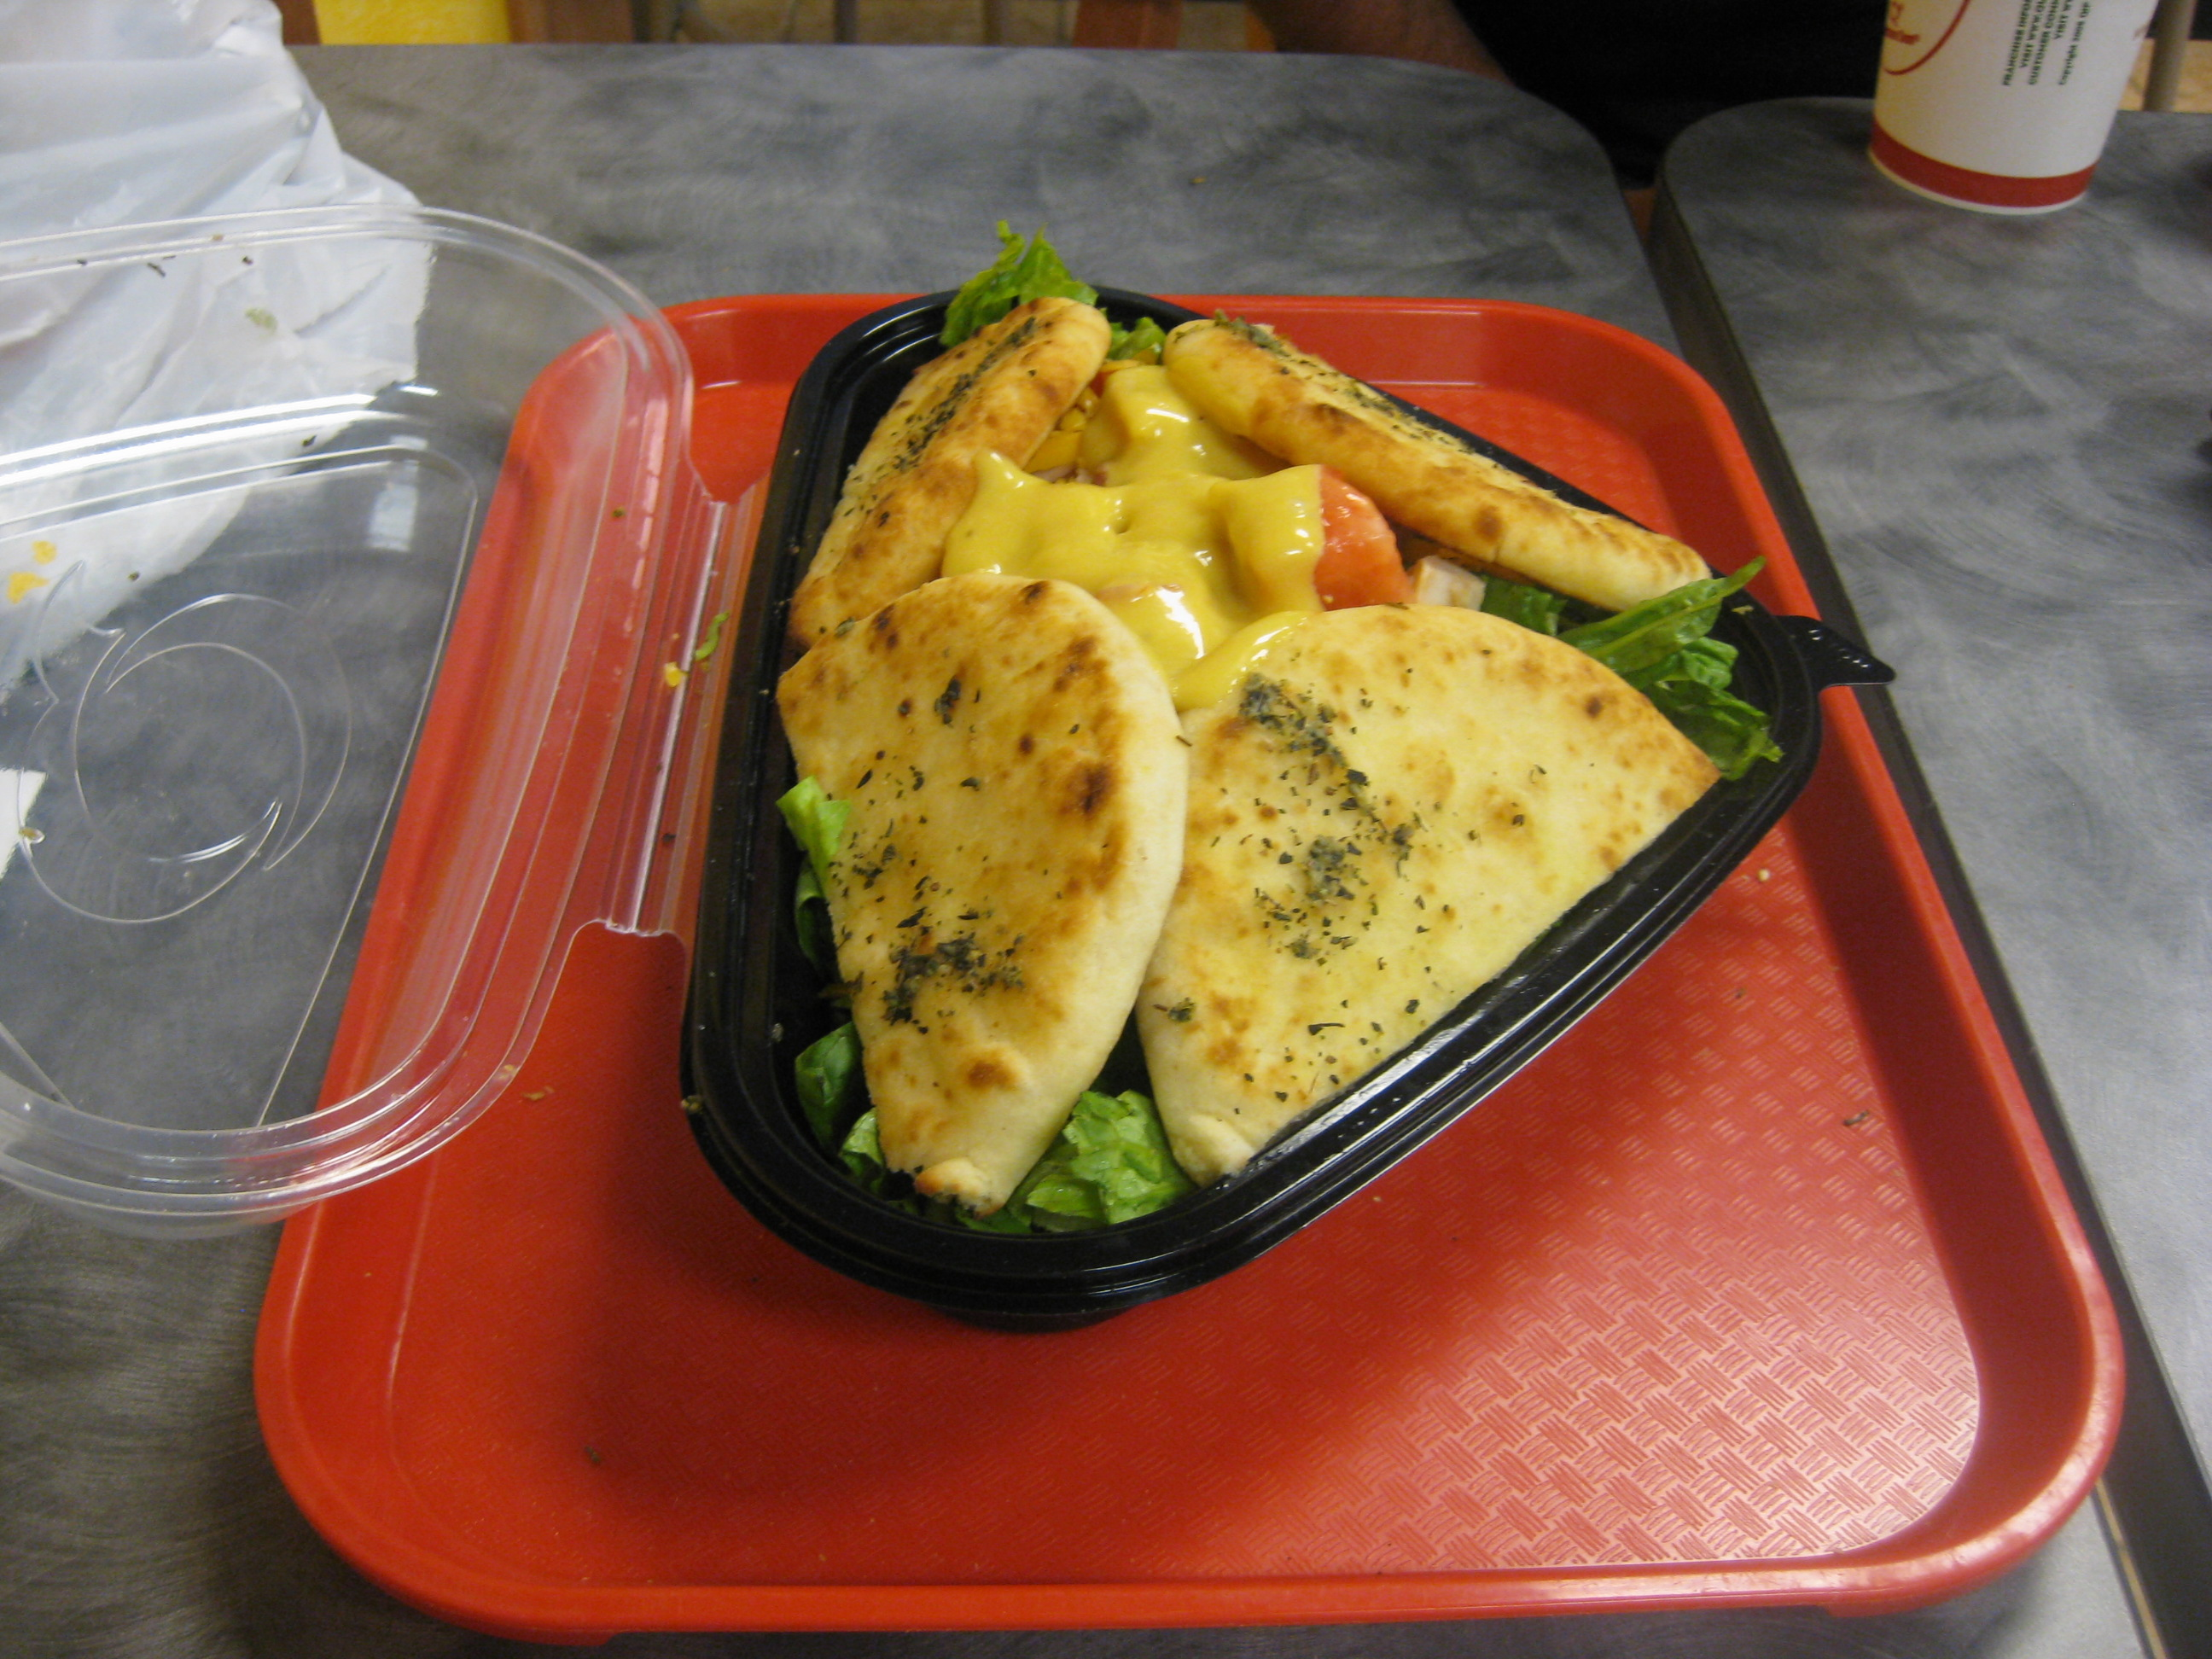burrito: (693, 245, 1747, 1245)
